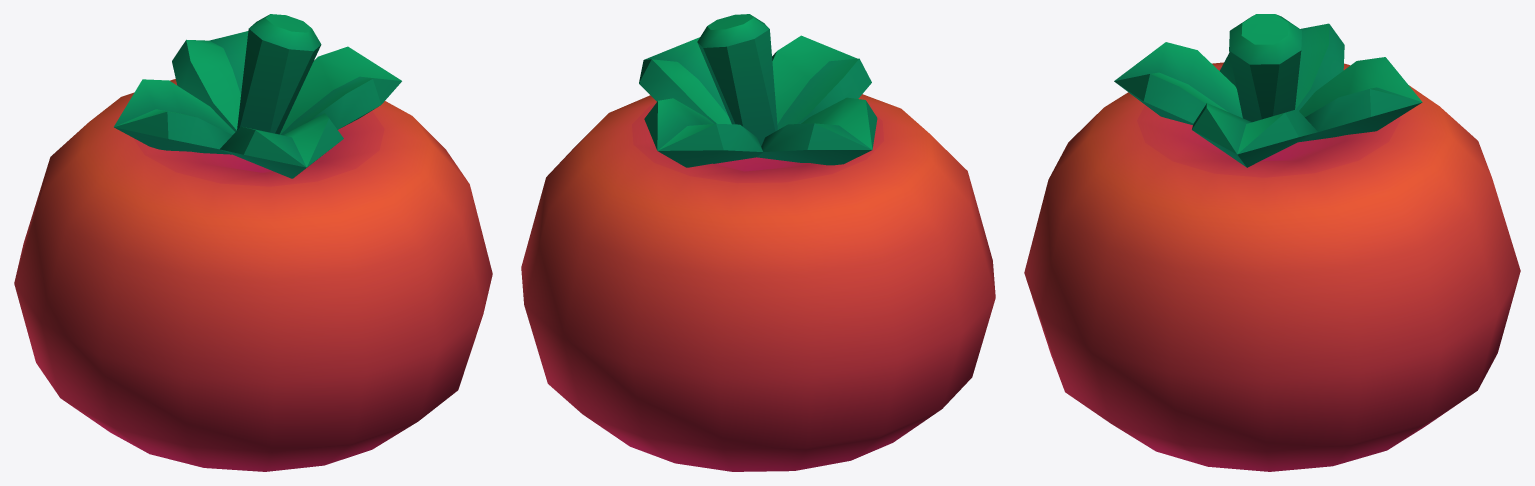
Rendered from tomato.fbx.
The picture shows the model from 3 angles, left to right: view 1: azimuth 30°, elevation 25°; view 2: azimuth 150°, elevation 25°; view 3: azimuth 270°, elevation 25°; orthographic projection. The views are drawn at different scales.
Visible parts, largest first — view 1: tomatoes; view 2: tomatoes; view 3: tomatoes.
Boxes of the visible parts, x1,y1,x2,y2 form: tomatoes: (14, 14, 492, 471); tomatoes: (521, 14, 995, 471); tomatoes: (1024, 14, 1520, 471).
Bounding box in the file's own units: 0.6649 × 0.6208 × 0.6648.
